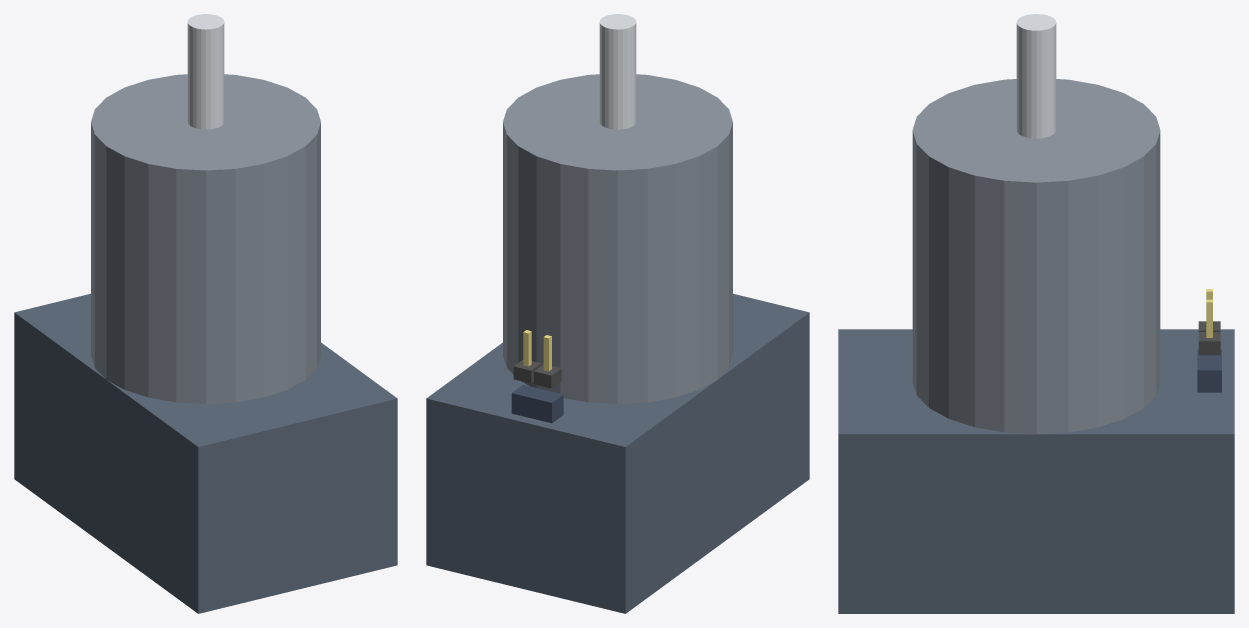
File: peristaltic-pump-12v.glb
3 renders of one model, left to right at view 1: azimuth 30°, elevation 25°; view 2: azimuth 150°, elevation 25°; view 3: azimuth 270°, elevation 25°, orthographic. The views are drawn at different scales.
Visible parts, largest first — view 1: peristaltic-pump-12v_mesh; view 2: peristaltic-pump-12v_mesh; view 3: peristaltic-pump-12v_mesh.
Boxes of the visible parts, <box> form: peristaltic-pump-12v_mesh: <box>14,14,397,613</box>; peristaltic-pump-12v_mesh: <box>426,14,809,613</box>; peristaltic-pump-12v_mesh: <box>838,14,1234,613</box>.
Bounding box in the file's own units: 25 × 60 × 40.
